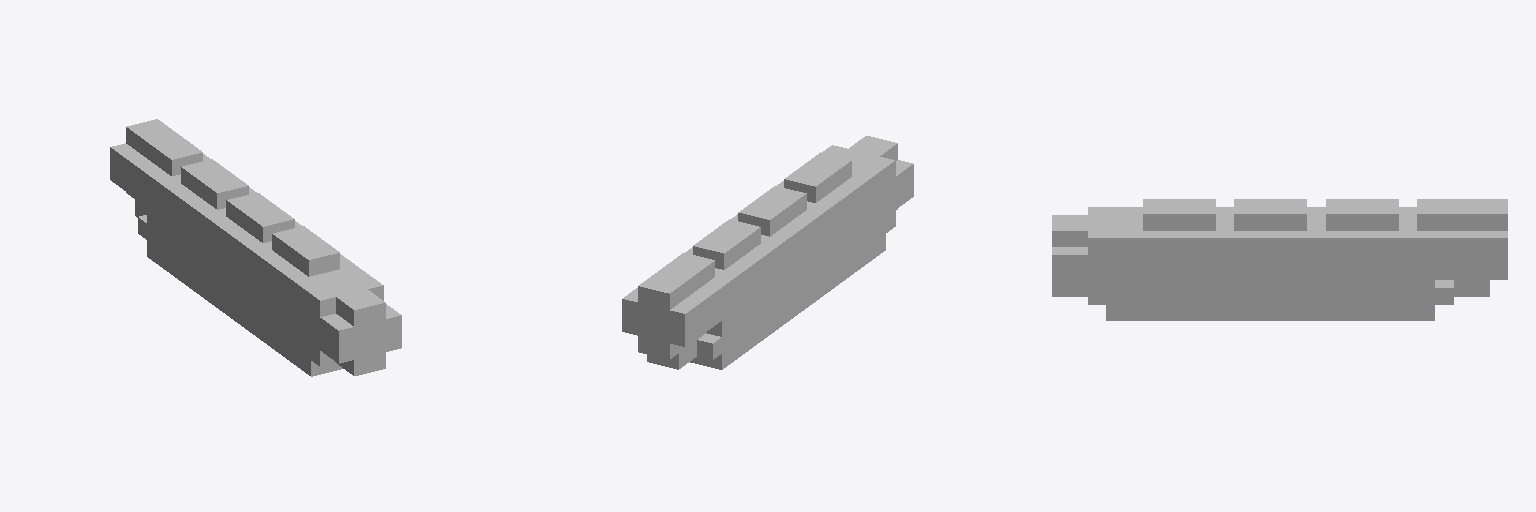
Rendered from Gun (Inner).obj.
The picture shows the model from 3 angles: view 1: azimuth 30°, elevation 25°; view 2: azimuth 150°, elevation 25°; view 3: azimuth 270°, elevation 25°; orthographic projection.
Parts seen in each view (by area): view 1: object 1; view 2: object 1; view 3: object 1.
Boxes of the visible parts, box(x1,y1,x2,y2) form: object 1: box(110, 119, 401, 376); object 1: box(622, 136, 913, 369); object 1: box(1052, 199, 1507, 320).
Size of the model in its own units: 0.4 by 0.6 by 2.5.